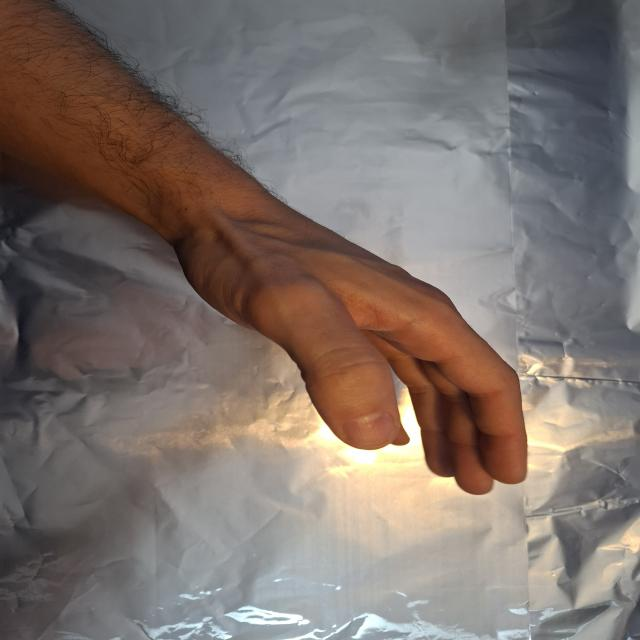glove_off: (170, 196, 531, 496)
